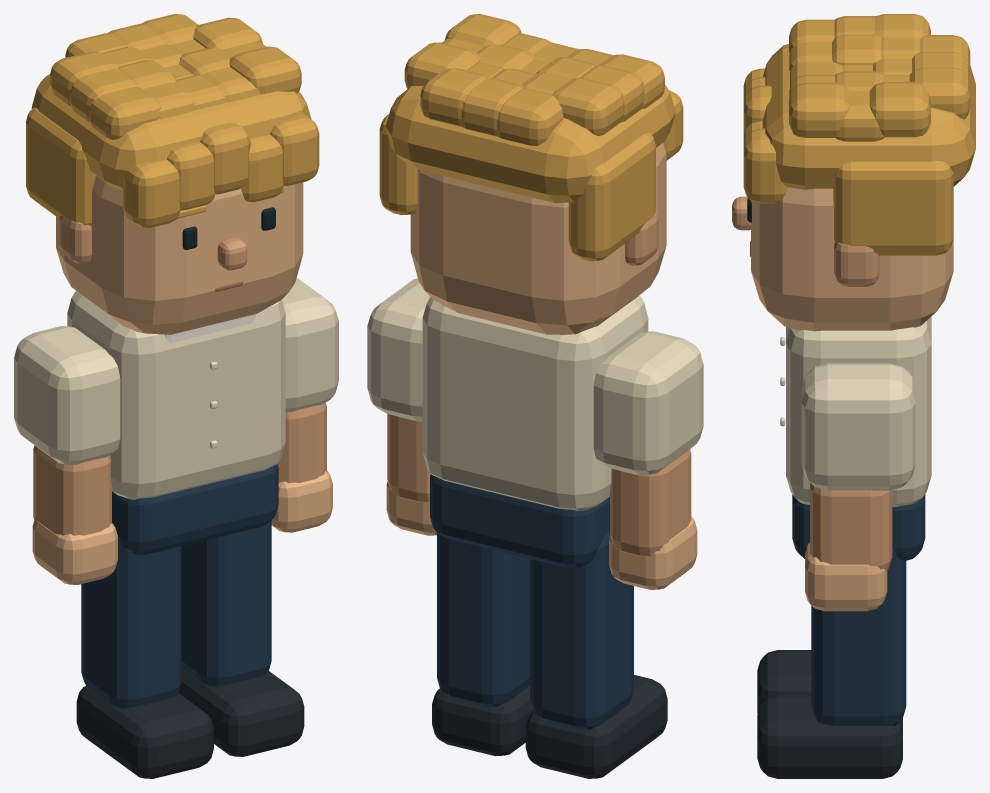
The model's file is employee_blond.glb.
3 renders of one model, left to right at view 1: azimuth 30°, elevation 25°; view 2: azimuth 150°, elevation 25°; view 3: azimuth 270°, elevation 25°, orthographic. The views are drawn at different scales.
Parts seen in each view (by area): view 1: employee_blond__blond, employee_blond__cream_shirt, employee_blond__skin_light.002, employee_blond__pants, employee_blond__pants.001, employee_blond__cream_shirt.001, employee_blond__pants.002, employee_blond__shoe, employee_blond__shoe.001, employee_blond__cream_shirt.002, employee_blond__skin, employee_blond__skin_light (+5 smaller); view 2: employee_blond__blond, employee_blond__cream_shirt, employee_blond__skin_light.002, employee_blond__pants, employee_blond__pants.001, employee_blond__cream_shirt.001, employee_blond__pants.002, employee_blond__shoe, employee_blond__cream_shirt.002, employee_blond__skin, employee_blond__shoe.001, employee_blond__skin_light (+3 smaller); view 3: employee_blond__blond, employee_blond__skin_light.002, employee_blond__cream_shirt.002, employee_blond__pants.001, employee_blond__cream_shirt, employee_blond__shoe.001, employee_blond__skin.001, employee_blond__skin_light.001, employee_blond__pants.002, employee_blond__shoe, employee_blond__skin.003.
Boxes of the visible parts, x1,y1,x2,y2 form: employee_blond__blond: [26, 14, 319, 227]; employee_blond__cream_shirt: [67, 291, 285, 499]; employee_blond__skin_light.002: [56, 175, 303, 334]; employee_blond__pants: [81, 541, 181, 708]; employee_blond__pants.001: [181, 521, 271, 686]; employee_blond__cream_shirt.001: [14, 326, 120, 464]; employee_blond__pants.002: [112, 464, 278, 554]; employee_blond__shoe: [76, 686, 213, 778]; employee_blond__shoe.001: [178, 668, 304, 756]; employee_blond__cream_shirt.002: [282, 278, 338, 412]; employee_blond__skin: [33, 445, 111, 535]; employee_blond__skin_light: [32, 519, 117, 584]; employee_blond__blond: [379, 14, 683, 261]; employee_blond__cream_shirt: [422, 295, 648, 511]; employee_blond__skin_light.002: [410, 143, 666, 334]; employee_blond__pants: [530, 532, 633, 729]; employee_blond__pants.001: [437, 533, 530, 706]; employee_blond__cream_shirt.001: [593, 331, 703, 475]; employee_blond__pants.002: [430, 474, 609, 568]; employee_blond__shoe: [525, 675, 667, 778]; employee_blond__cream_shirt.002: [367, 278, 430, 420]; employee_blond__skin: [610, 449, 691, 556]; employee_blond__shoe.001: [432, 686, 532, 756]; employee_blond__skin_light: [609, 516, 697, 589]; employee_blond__blond: [743, 14, 975, 255]; employee_blond__skin_light.002: [751, 187, 953, 331]; employee_blond__cream_shirt.002: [801, 363, 915, 490]; employee_blond__pants.001: [811, 549, 906, 726]; employee_blond__cream_shirt: [786, 316, 931, 506]; employee_blond__shoe.001: [757, 695, 902, 778]; employee_blond__skin.001: [810, 483, 892, 571]; employee_blond__skin_light.001: [805, 542, 887, 611]; employee_blond__pants.002: [792, 494, 925, 560]; employee_blond__shoe: [757, 650, 811, 713]; employee_blond__skin.003: [732, 196, 879, 286].
Size of the model in its own units: 0.535 by 1.2 by 0.385.
